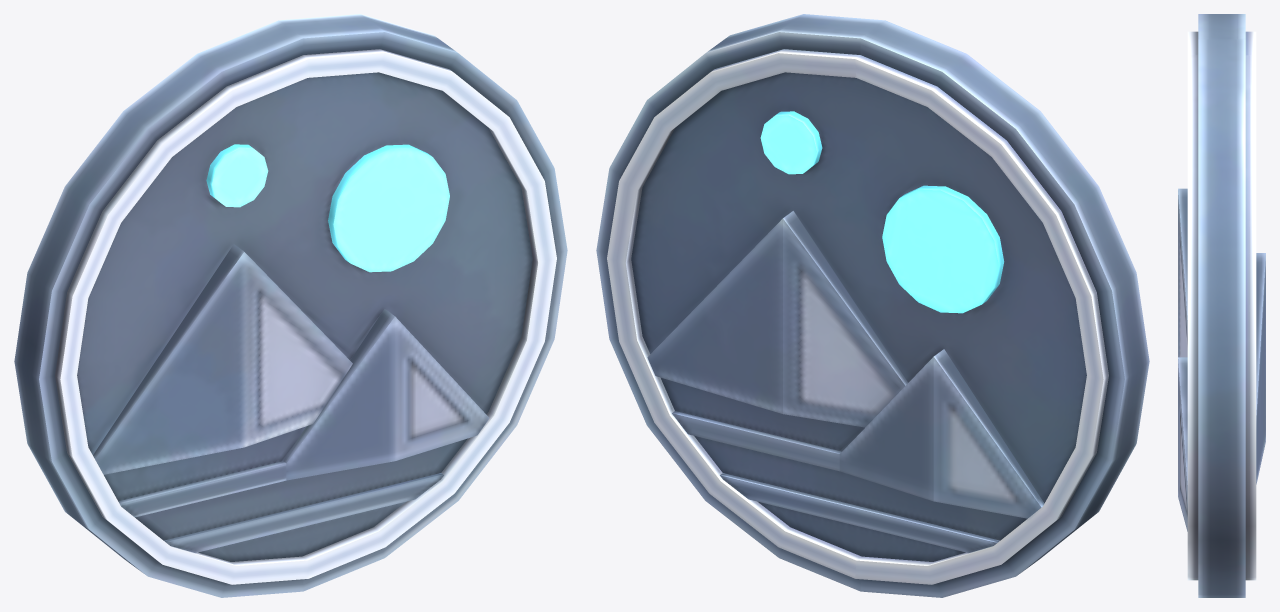
The model's file is obj_coin.gltf.
3 views of the same model, side by side, from view 1: azimuth 30°, elevation 25°; view 2: azimuth 150°, elevation 25°; view 3: azimuth 270°, elevation 25° (orthographic). The views are drawn at different scales.
Visible parts, largest first — view 1: obj_coin; view 2: obj_coin; view 3: obj_coin.
Part boxes in pixels (<box>): obj_coin: <box>14,14,567,597</box>; obj_coin: <box>596,14,1149,597</box>; obj_coin: <box>1178,14,1265,597</box>.
Size of what is drawn, in the model's own units: 0.3933 by 0.3933 by 0.0588.
Materials: 1 (1 with a texture image).
